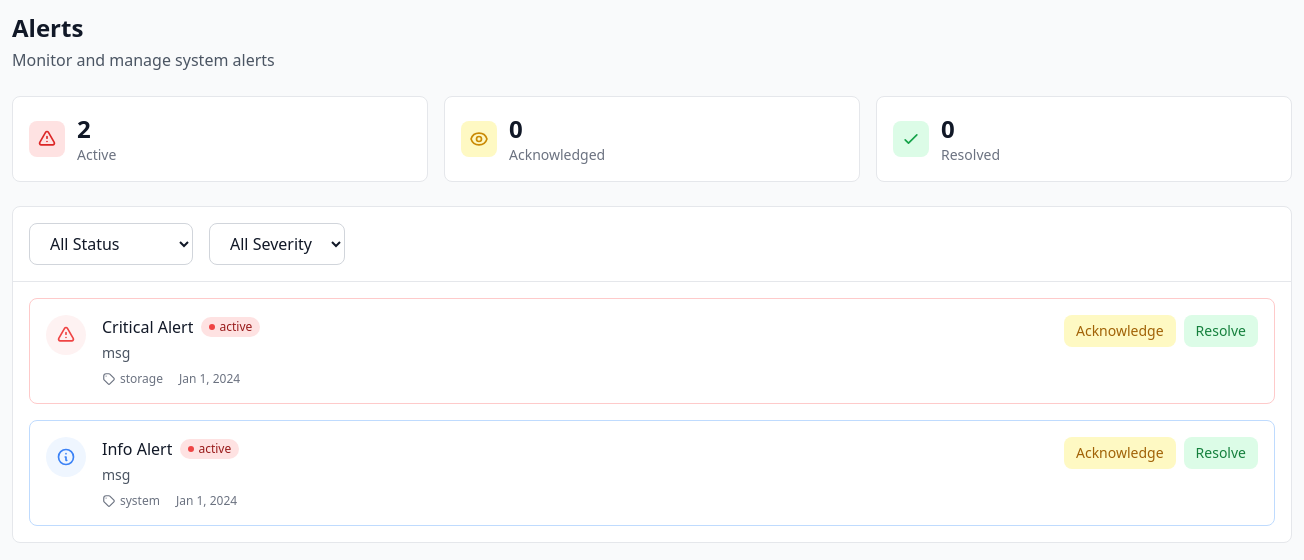
Test case: Alerts › filters by severity
The image size is (1304, 560).
Select "Critical" in the 2nd dropdown at (277, 244), box [209,223,345,265]
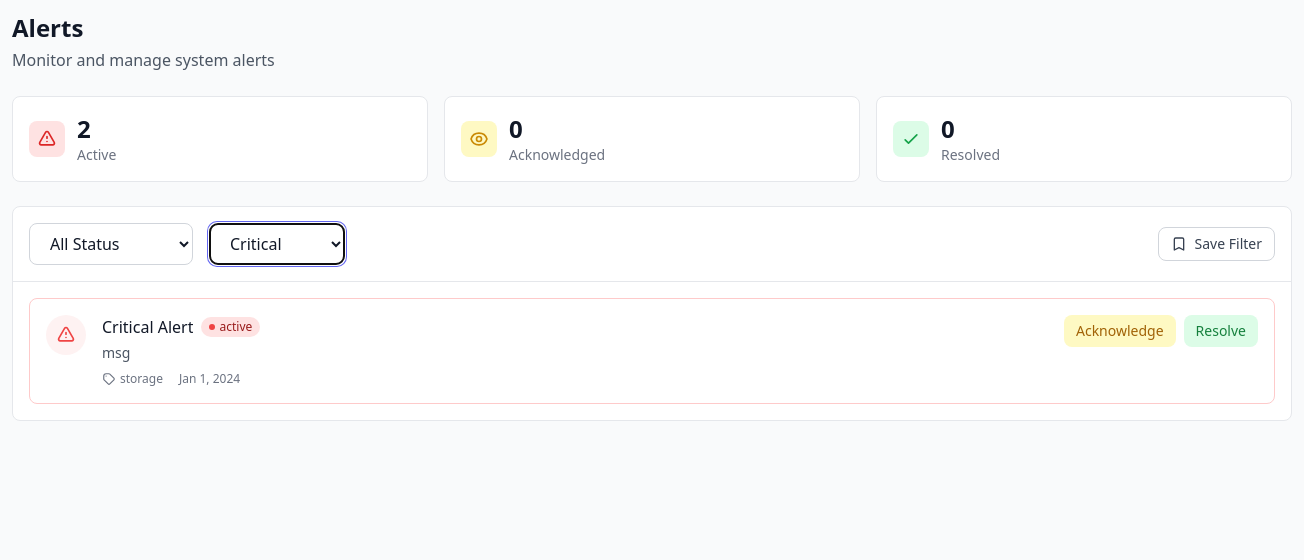
Expected: the heading "Critical Alert" is shown, [102,315,194,339]
Expected: the heading "Info Alert" is gone
